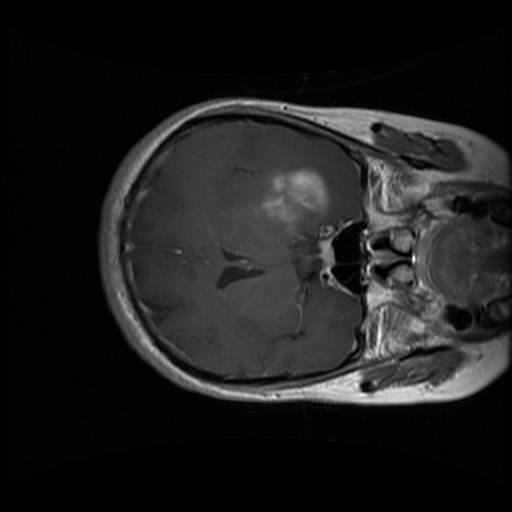glioma: (250, 162, 332, 240)
